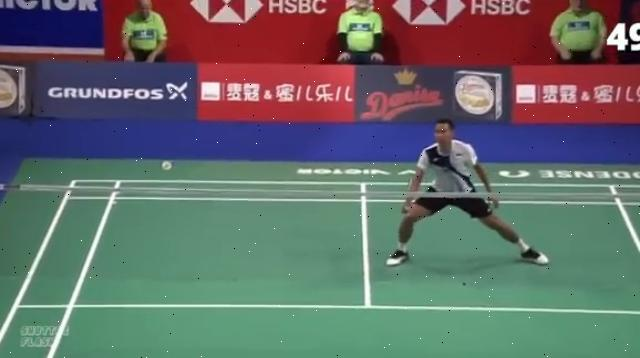Shuttlecock: (158, 158, 176, 174)
